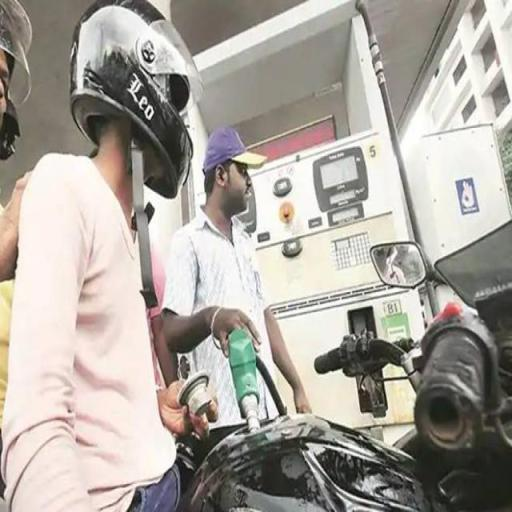Helmet: (71, 0, 201, 197)
Motor: (180, 276, 511, 511)
